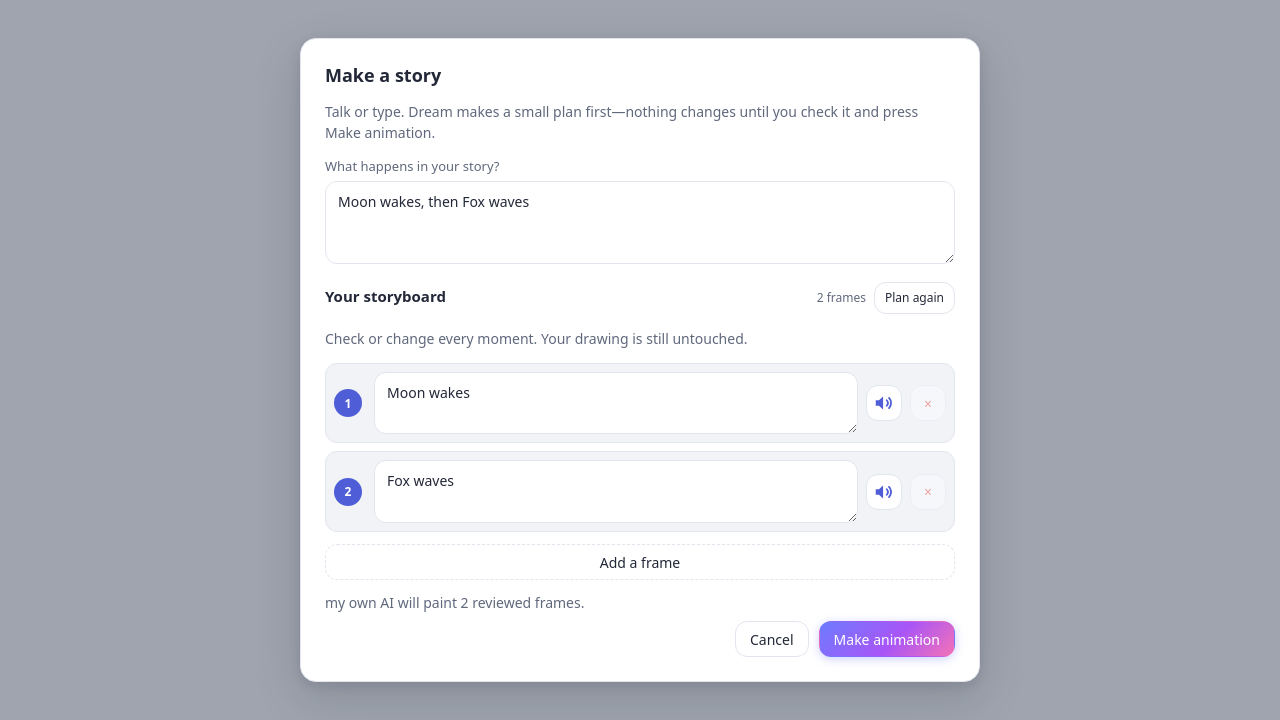
StoryboardDialog › shows the active scene and cancels immediately without accepting late frames
Click the button "Make animation". click: x=887, y=639
box: [819, 621, 955, 657]
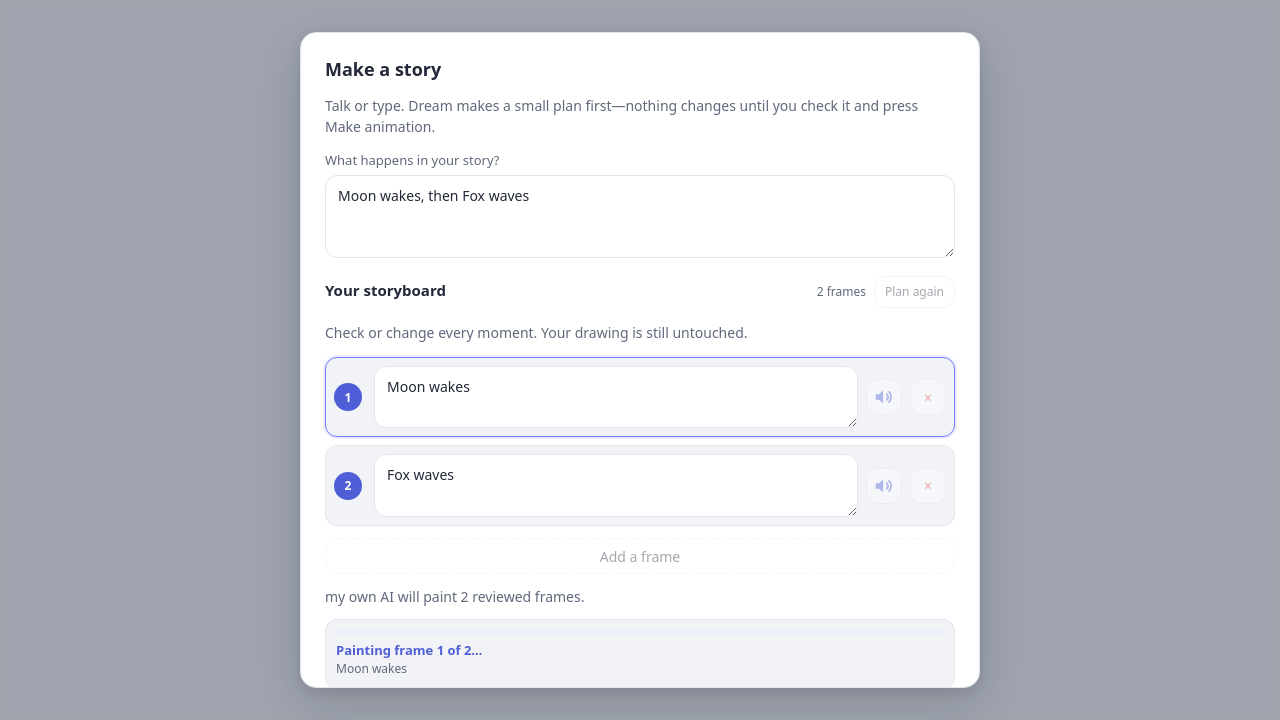
Expected: the message shows "Moon wakes", [336, 660, 407, 677]
Press Escape
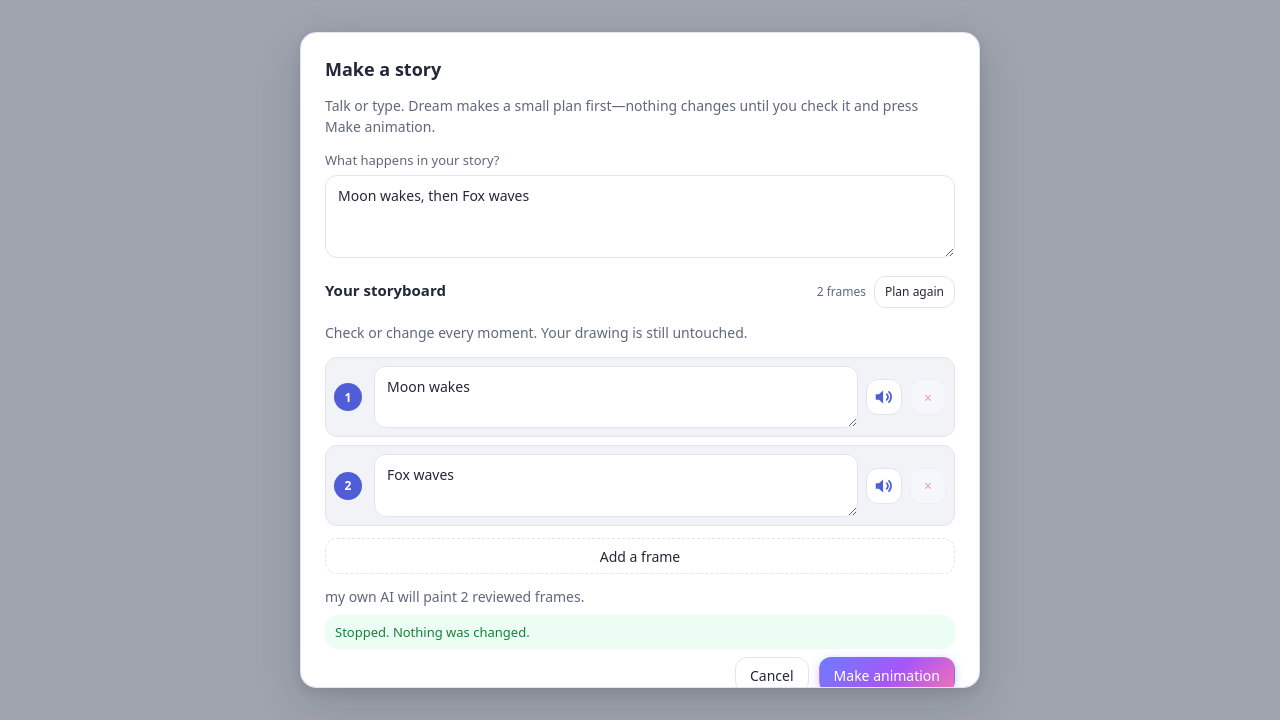
Expected: the progress indicator is gone
Expected: the message reads "Stopped. Nothing was changed.", [335, 623, 530, 641]
